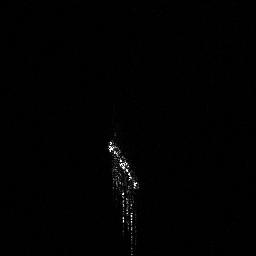ship: (103, 135, 144, 256)
